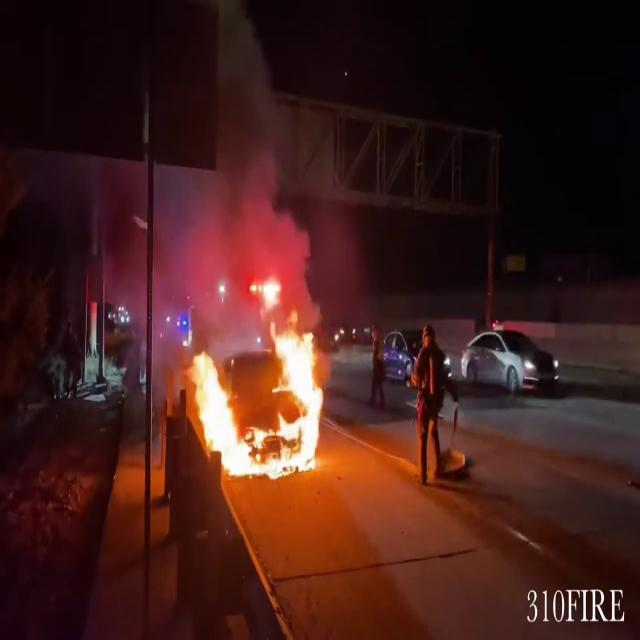Fire: (184, 322, 337, 481)
Smoke: (137, 82, 329, 336)
